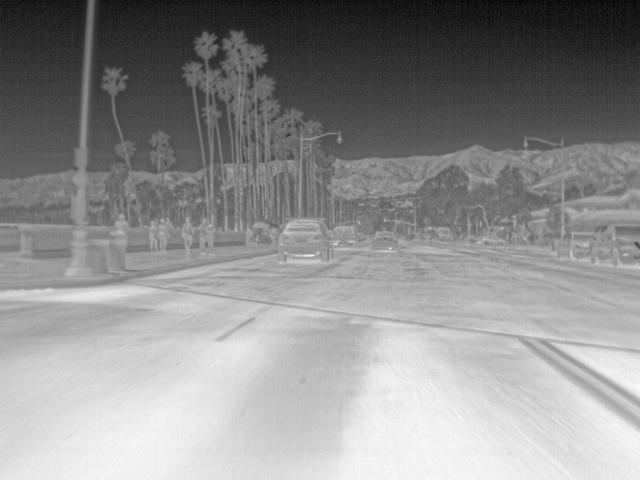car: (278, 220, 331, 262), (590, 223, 639, 268), (557, 229, 596, 259), (371, 230, 401, 251), (333, 226, 359, 248), (430, 226, 456, 246)
person: (112, 213, 129, 252), (178, 218, 195, 252), (156, 219, 171, 253), (145, 220, 160, 250)
